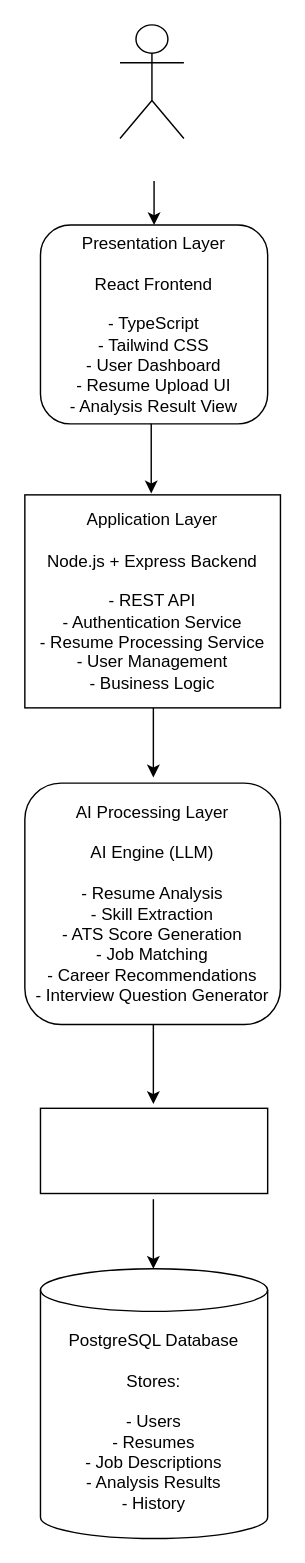
Image size: 305x1563. Some labels were removed from this diagram. The centre of each missing label's shape, as x and y in pixels:
"AI Service OpenAI / Ollama" goes at (153,1150).
"User" goes at (151,80).
